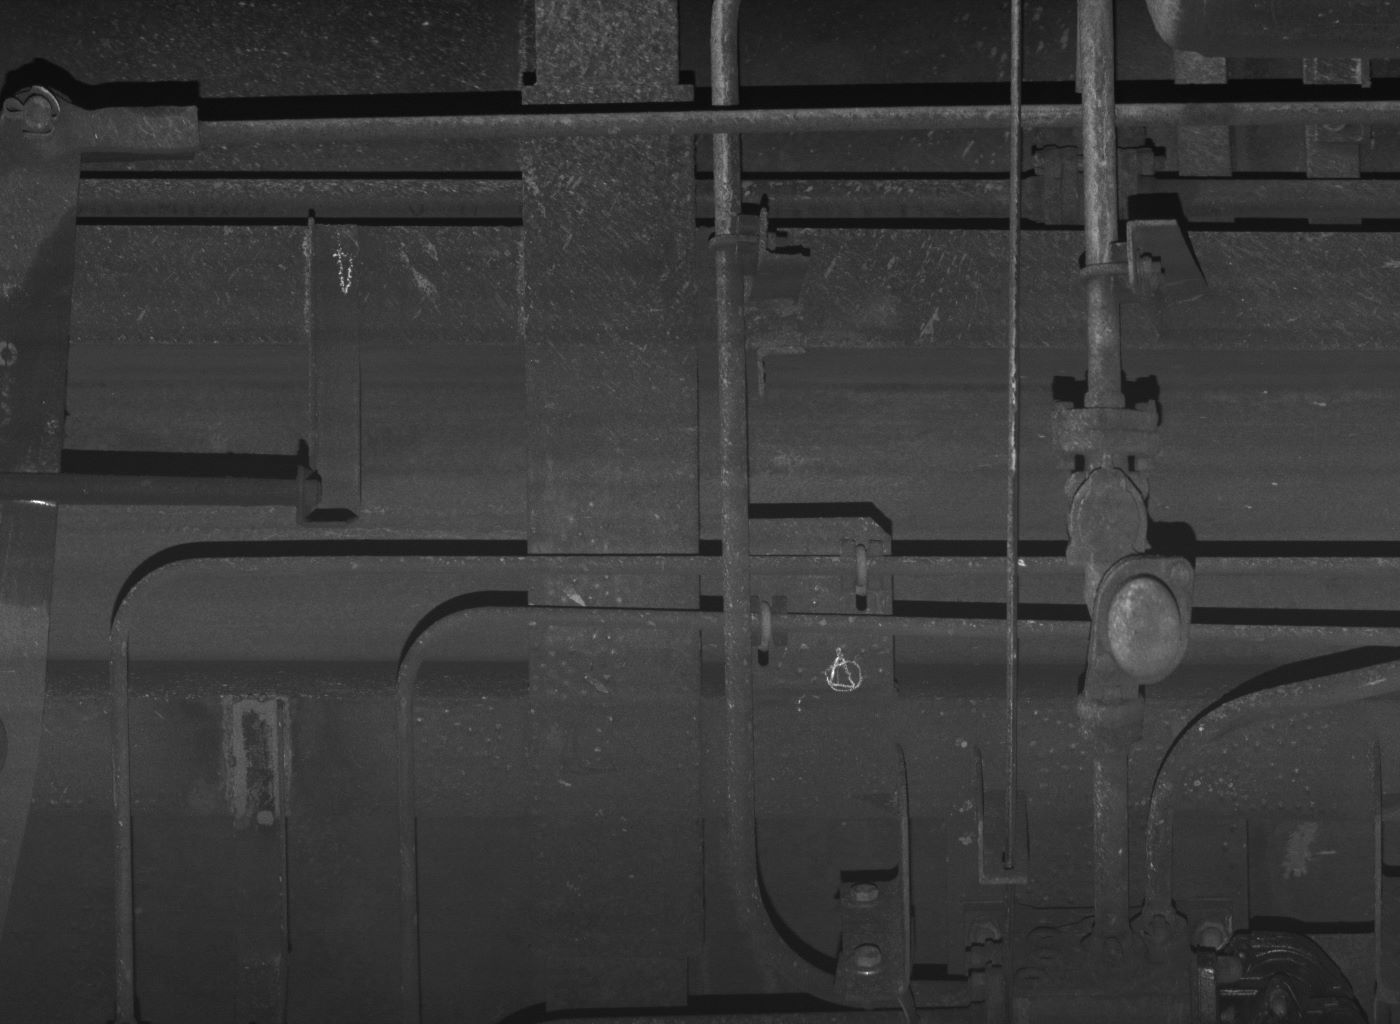normal: (1064, 465, 1150, 570)
